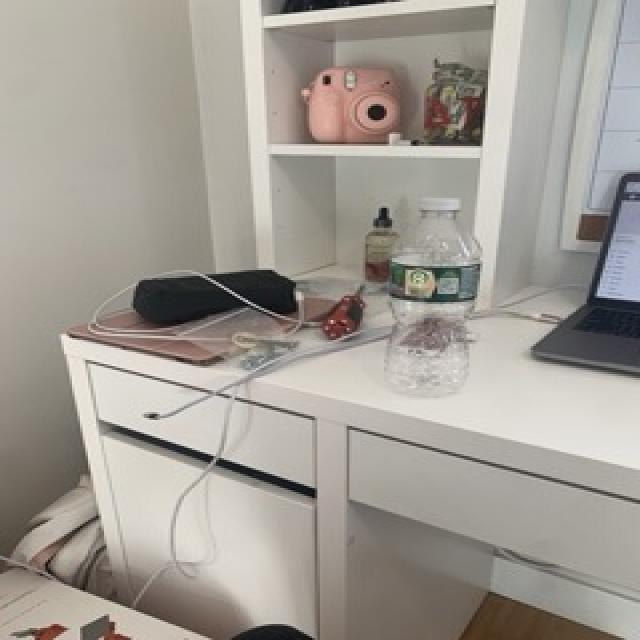water_bottle: (385, 192, 488, 406)
